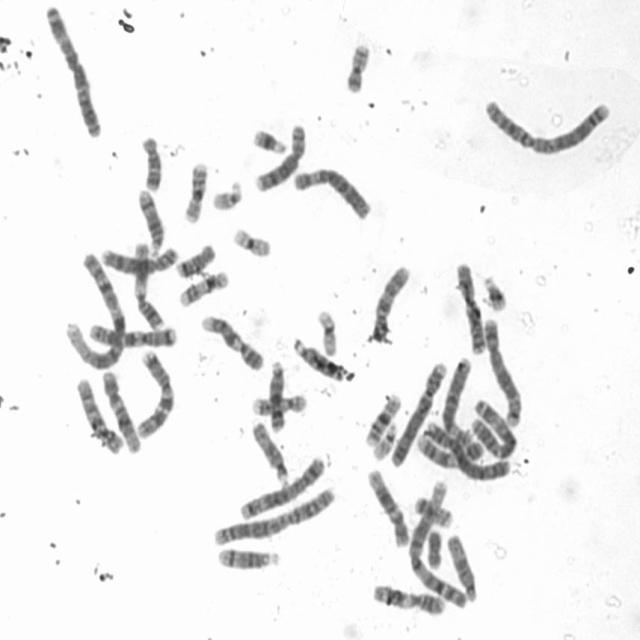A1: (61, 245, 129, 373), (404, 481, 470, 610)
A2: (478, 89, 616, 158), (210, 481, 340, 547)
A3: (41, 0, 104, 139), (466, 394, 520, 460)
B4: (388, 355, 450, 468), (421, 415, 514, 484)
B5: (235, 450, 328, 522), (480, 312, 524, 429)
C10: (72, 372, 125, 456), (368, 259, 412, 342)
C11: (128, 235, 166, 332), (368, 578, 448, 617)
C12: (364, 463, 413, 548), (98, 364, 143, 455)
C6: (290, 161, 374, 222), (438, 350, 478, 448)
C7: (131, 344, 177, 440), (84, 317, 181, 350)
C8: (251, 118, 308, 193), (98, 240, 182, 276)
C9: (198, 309, 266, 372), (412, 431, 488, 469)
D13: (290, 332, 348, 382), (265, 355, 288, 434)
D14: (134, 183, 166, 256), (213, 542, 283, 572)
D15: (248, 416, 291, 486), (443, 530, 480, 603)
E16: (361, 388, 403, 448), (180, 156, 210, 224)
E17: (175, 264, 231, 308), (248, 388, 310, 417)
E18: (172, 238, 218, 280), (137, 130, 164, 192)
F19: (229, 222, 274, 259), (313, 303, 340, 357)
F20: (342, 37, 373, 94), (410, 491, 456, 529)
G21: (249, 122, 289, 156), (479, 270, 510, 312)
G22: (369, 418, 400, 462), (208, 175, 244, 212)
X: (452, 256, 488, 355)
Y: (423, 525, 444, 570)
